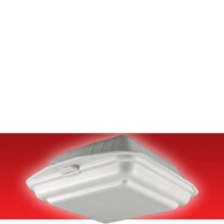foam_box: (23, 133, 202, 223)
